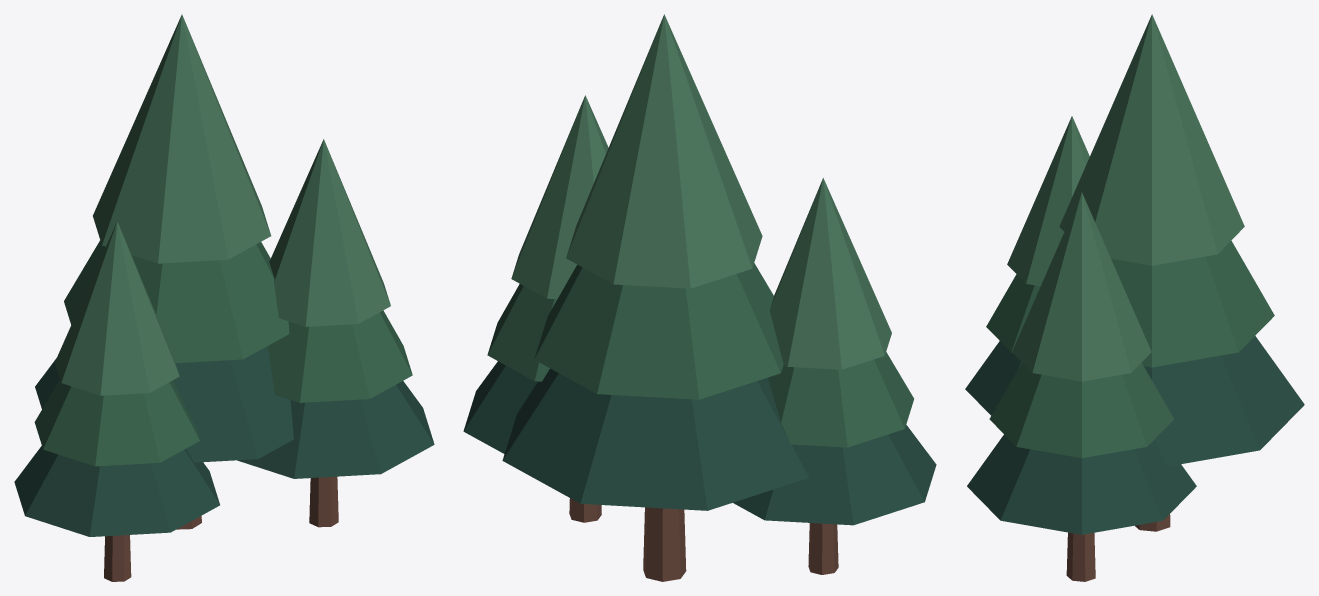
The model's file is cedar-grove.glb.
3 renders of one model, left to right at view 1: azimuth 30°, elevation 25°; view 2: azimuth 150°, elevation 25°; view 3: azimuth 270°, elevation 25°, orthographic. The views are drawn at different scales.
Parts seen in each view (by area): view 1: cedar-grove; view 2: cedar-grove; view 3: cedar-grove.
Part boxes in pixels (x1=…): cedar-grove: x1=14, y1=14, x2=434, y2=581; cedar-grove: x1=463, y1=14, x2=936, y2=581; cedar-grove: x1=965, y1=14, x2=1304, y2=581.
Size of the model in its own units: 12.83 by 15.45 by 9.34.
